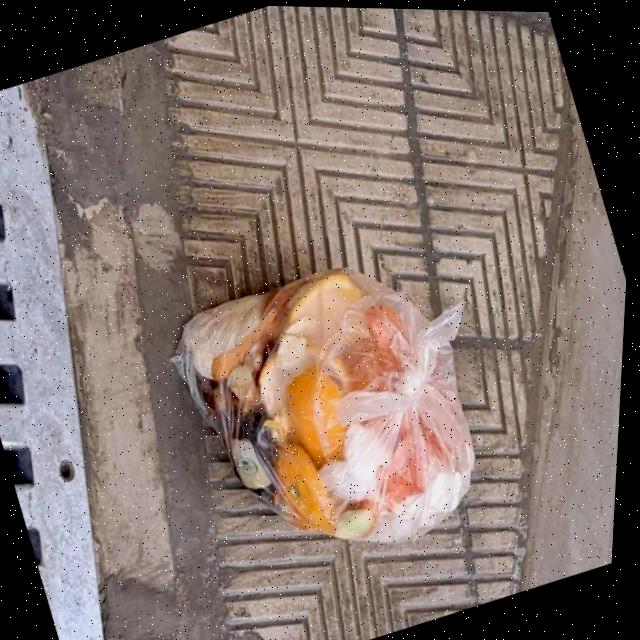Organic Waste -White Bag-: (149, 216, 538, 598)
